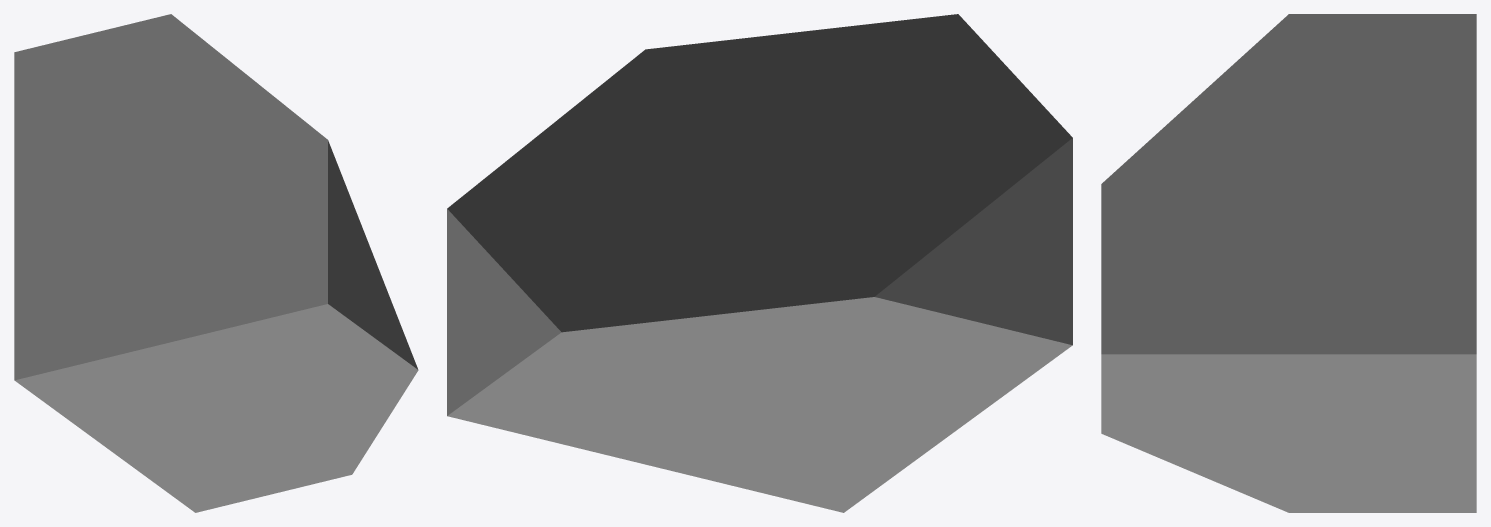
The model's file is r5c7_border_grey.gltf.
The picture shows the model from 3 angles, left to right: view 1: azimuth 30°, elevation 25°; view 2: azimuth 150°, elevation 25°; view 3: azimuth 270°, elevation 25°; orthographic projection. The views are drawn at different scales.
Parts seen in each view (by area): view 1: r5c7_border_grey; view 2: r5c7_border_grey; view 3: r5c7_border_grey.
Boxes of the visible parts, bbox=[...] form: r5c7_border_grey: bbox=[14, 14, 418, 512]; r5c7_border_grey: bbox=[447, 14, 1072, 512]; r5c7_border_grey: bbox=[1101, 14, 1476, 512].
Size of the model in its own units: 2.1 by 2.1 by 2.1.
1 material, 1 textured.
